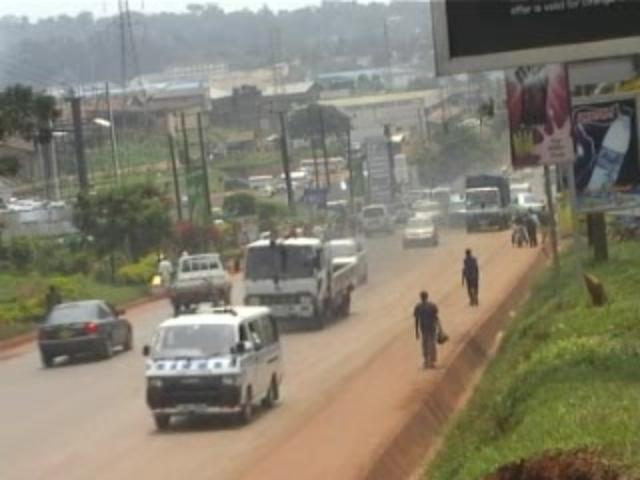car: (36, 298, 137, 369), (401, 216, 437, 251)
truck: (242, 232, 366, 330), (165, 253, 233, 314), (463, 172, 512, 229)
van: (142, 302, 282, 430), (360, 204, 391, 236)
